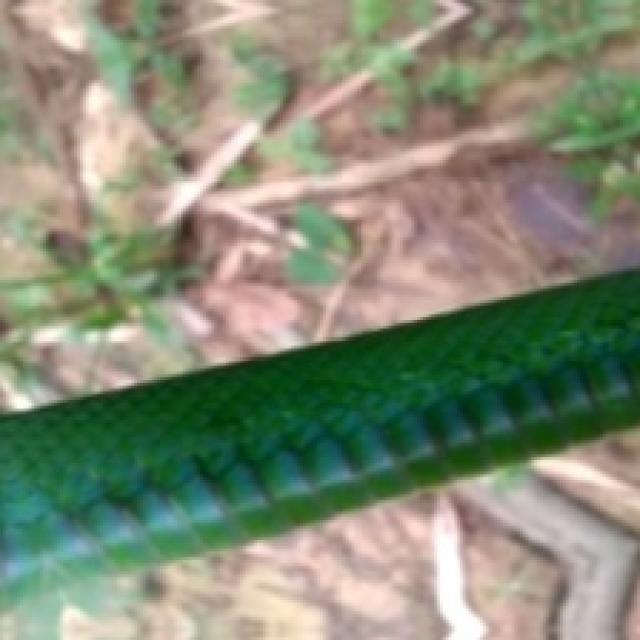red-tailed green ratsnake: (0, 271, 637, 637)
